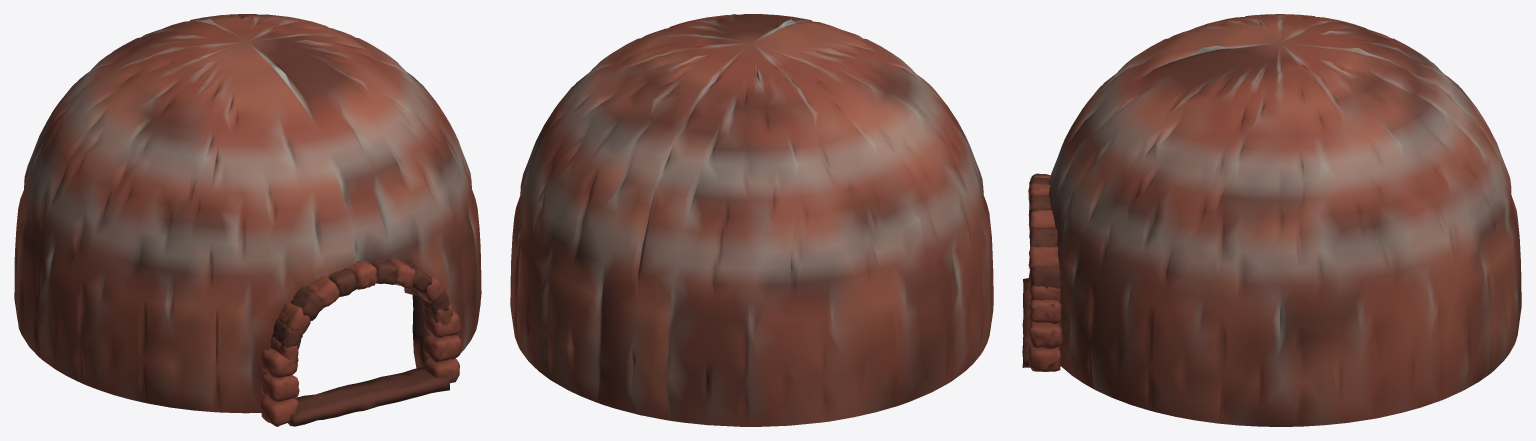
File: ember_oven_dome.glb
The picture shows the model from 3 angles, left to right: view 1: azimuth 30°, elevation 25°; view 2: azimuth 150°, elevation 25°; view 3: azimuth 270°, elevation 25°; orthographic projection. The views are drawn at different scales.
Visible parts, largest first — view 1: ember_oven_dome; view 2: ember_oven_dome; view 3: ember_oven_dome.
Part boxes in pixels (left/top/right/bottom): ember_oven_dome: left=14, top=14, right=481, bottom=426; ember_oven_dome: left=510, top=14, right=993, bottom=426; ember_oven_dome: left=1022, top=14, right=1521, bottom=426.
Bounding box in the file's own units: 35.97 × 23.55 × 37.18.
